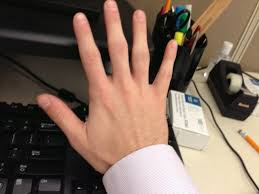hand: (34, 2, 197, 180)
